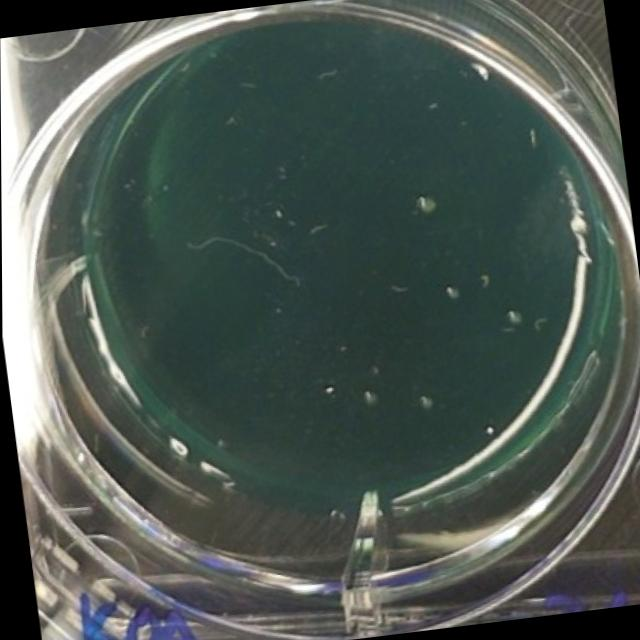vibrio: (404, 189, 442, 219), (407, 390, 437, 414), (436, 281, 461, 308), (497, 303, 524, 328), (358, 386, 380, 405)
